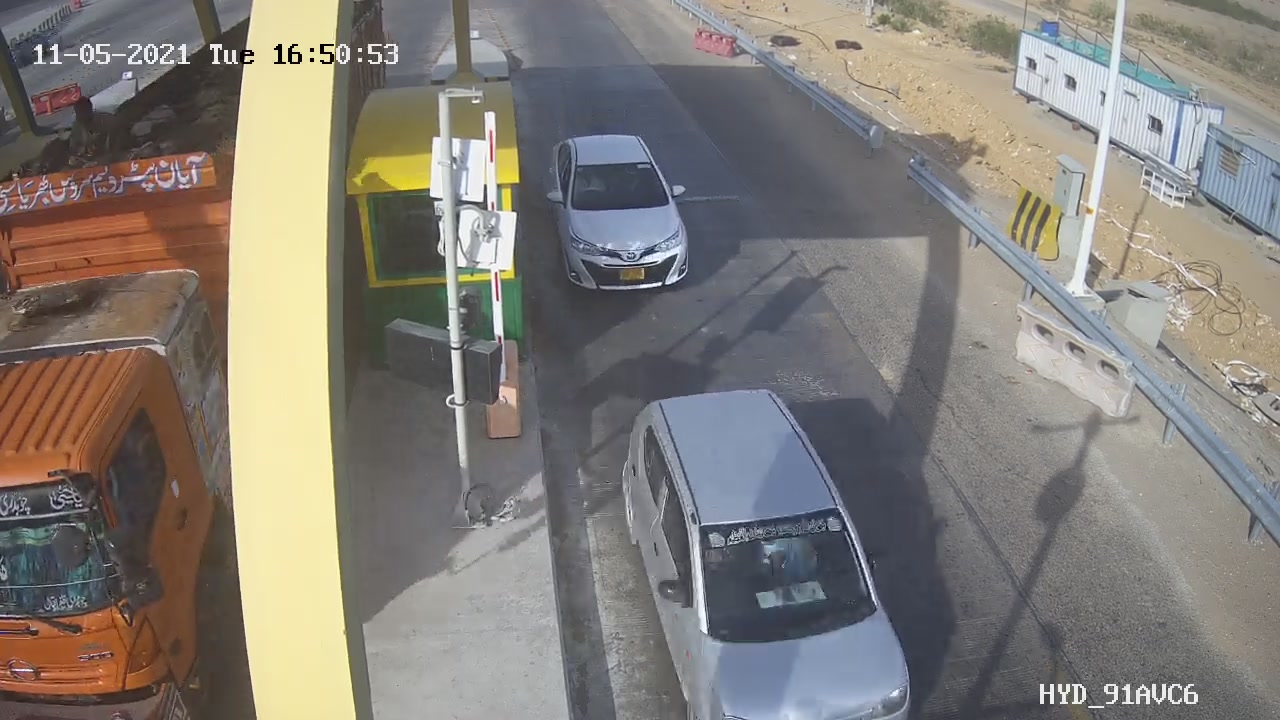F1: (533, 118, 712, 316)
